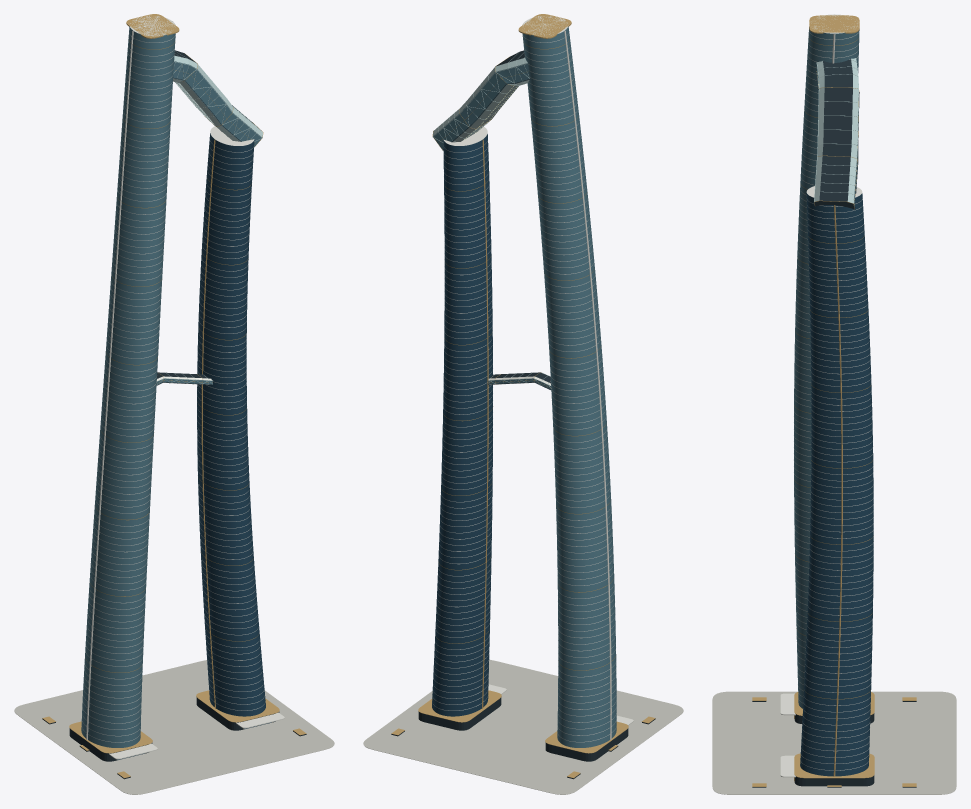
Rendered from tower-lod0.glb.
3 views of the same model, side by side, from view 1: azimuth 30°, elevation 25°; view 2: azimuth 150°, elevation 25°; view 3: azimuth 270°, elevation 25° (orthographic).
Visible parts, largest first — view 1: GC-OFFICE-001-glass, GC-OFFICE-001-blue, GC-OFFICE-001-stone, GC-OFFICE-001-white, GC-OFFICE-001-gold, GC-OFFICE-001-pearl, GC-OFFICE-001-dark; view 2: GC-OFFICE-001-glass, GC-OFFICE-001-blue, GC-OFFICE-001-stone, GC-OFFICE-001-white, GC-OFFICE-001-gold, GC-OFFICE-001-dark, GC-OFFICE-001-pearl; view 3: GC-OFFICE-001-blue, GC-OFFICE-001-stone, GC-OFFICE-001-glass, GC-OFFICE-001-white, GC-OFFICE-001-dark, GC-OFFICE-001-gold, GC-OFFICE-001-pearl.
Part boxes in pixels (x1=…): GC-OFFICE-001-glass: x1=81, y1=26, x2=262, y2=747; GC-OFFICE-001-blue: x1=116, y1=133, x2=271, y2=760; GC-OFFICE-001-stone: x1=14, y1=660, x2=334, y2=794; GC-OFFICE-001-white: x1=81, y1=15, x2=284, y2=759; GC-OFFICE-001-gold: x1=42, y1=14, x2=306, y2=778; GC-OFFICE-001-pearl: x1=156, y1=51, x2=262, y2=384; GC-OFFICE-001-dark: x1=42, y1=50, x2=306, y2=779; GC-OFFICE-001-glass: x1=433, y1=26, x2=616, y2=747; GC-OFFICE-001-blue: x1=432, y1=134, x2=492, y2=716; GC-OFFICE-001-stone: x1=363, y1=659, x2=683, y2=794; GC-OFFICE-001-white: x1=433, y1=15, x2=633, y2=742; GC-OFFICE-001-gold: x1=391, y1=14, x2=655, y2=778; GC-OFFICE-001-dark: x1=391, y1=50, x2=655, y2=779; GC-OFFICE-001-pearl: x1=433, y1=51, x2=551, y2=388; GC-OFFICE-001-blue: x1=800, y1=193, x2=873, y2=776; GC-OFFICE-001-stone: x1=712, y1=691, x2=956, y2=794; GC-OFFICE-001-glass: x1=794, y1=27, x2=859, y2=708; GC-OFFICE-001-white: x1=780, y1=14, x2=873, y2=777; GC-OFFICE-001-dark: x1=752, y1=58, x2=916, y2=787; GC-OFFICE-001-gold: x1=752, y1=15, x2=916, y2=786; GC-OFFICE-001-pearl: x1=814, y1=58, x2=858, y2=203.
Bounding box in the file's own units: 156 × 500 × 156.
